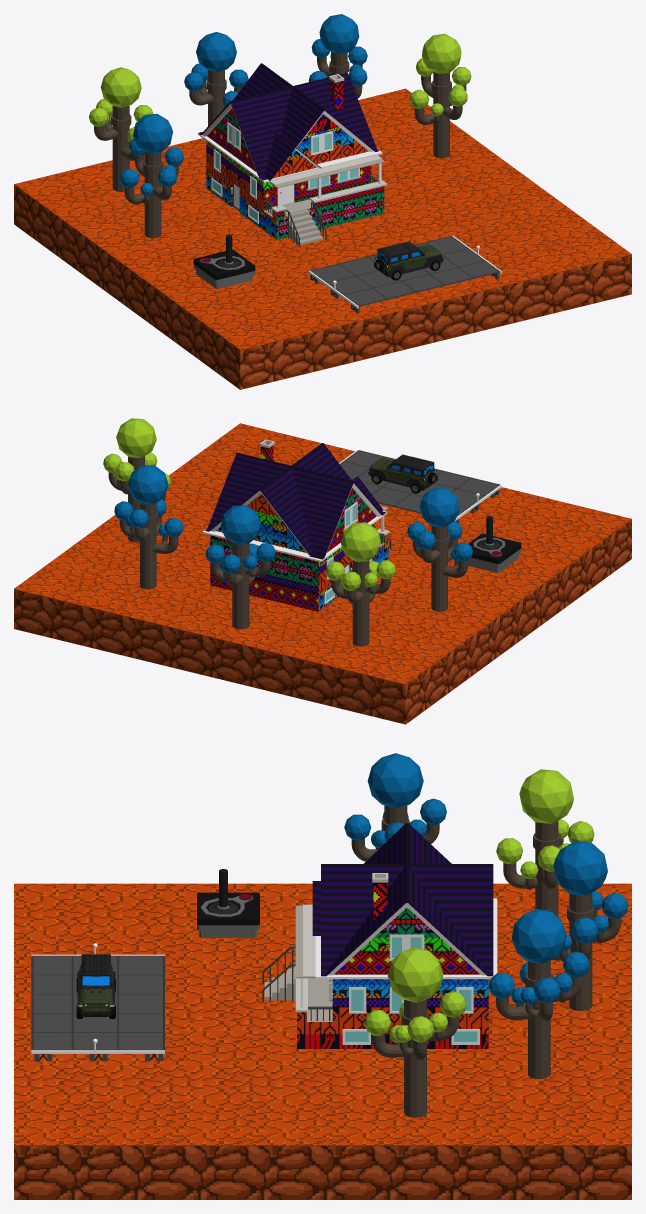
3 views of the same model, one above another, from view 1: azimuth 30°, elevation 25°; view 2: azimuth 150°, elevation 25°; view 3: azimuth 270°, elevation 25° (orthographic). The views are drawn at different scales.
Visible parts, largest first — view 1: Cube.001, Cube.966, OBJRANDOM_JOYSTICK, VEHICLES_JEEP; view 2: Cube.001, Cube.966, VEHICLES_JEEP, OBJRANDOM_JOYSTICK; view 3: Cube.001, Cube.966, OBJRANDOM_JOYSTICK, VEHICLES_JEEP.
Part boxes in pixels (x1=…): Cube.001: x1=14, y1=14, x2=631, y2=389; Cube.966: x1=197, y1=63, x2=387, y2=246; OBJRANDOM_JOYSTICK: x1=193, y1=234, x2=255, y2=288; VEHICLES_JEEP: x1=374, y1=241, x2=443, y2=280; Cube.001: x1=14, y1=418, x2=631, y2=724; Cube.966: x1=202, y1=439, x2=391, y2=611; VEHICLES_JEEP: x1=368, y1=454, x2=437, y2=493; OBJRANDOM_JOYSTICK: x1=468, y1=516, x2=521, y2=572; Cube.001: x1=14, y1=753, x2=631, y2=1199; Cube.966: x1=262, y1=823, x2=497, y2=1048; OBJRANDOM_JOYSTICK: x1=197, y1=869, x2=259, y2=937; VEHICLES_JEEP: x1=76, y1=954, x2=115, y2=1018.
Size of the model in its own units: 4000 by 1765 by 4000.
36 materials, 8 textured.
